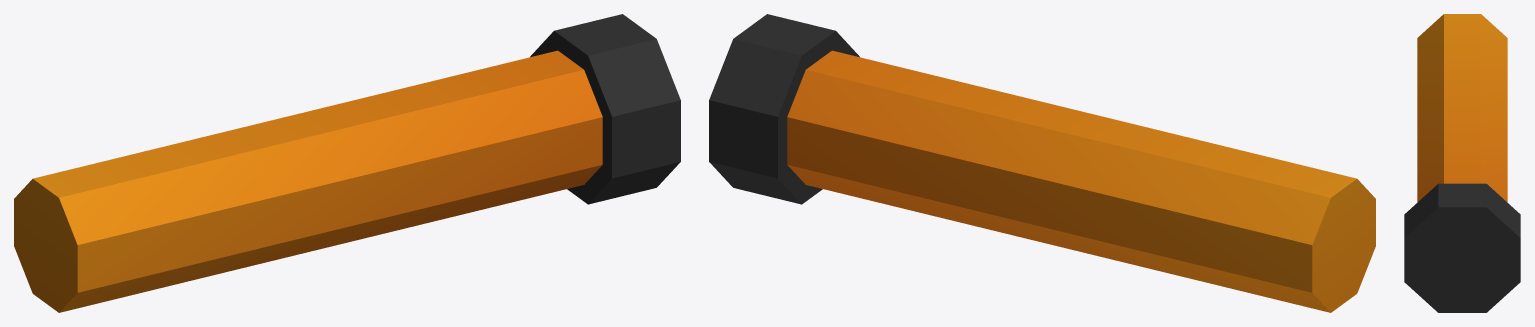
Rendered from SMG5_04_2.fbx.
3 renders of one model, left to right at view 1: azimuth 30°, elevation 25°; view 2: azimuth 150°, elevation 25°; view 3: azimuth 270°, elevation 25°, orthographic. The views are drawn at different scales.
Parts seen in each view (by area): view 1: SMG5_04_2; view 2: SMG5_04_2; view 3: SMG5_04_2.
Part boxes in pixels (<box>): SMG5_04_2: <box>14,14,680,312</box>; SMG5_04_2: <box>709,14,1375,312</box>; SMG5_04_2: <box>1404,14,1520,312</box>.
Size of the model in its own units: 0.3244 by 0.0777 by 0.0777.
